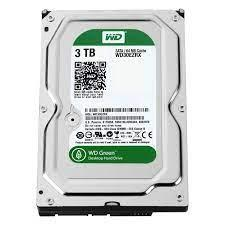internal HDD: (35, 9, 188, 217)
